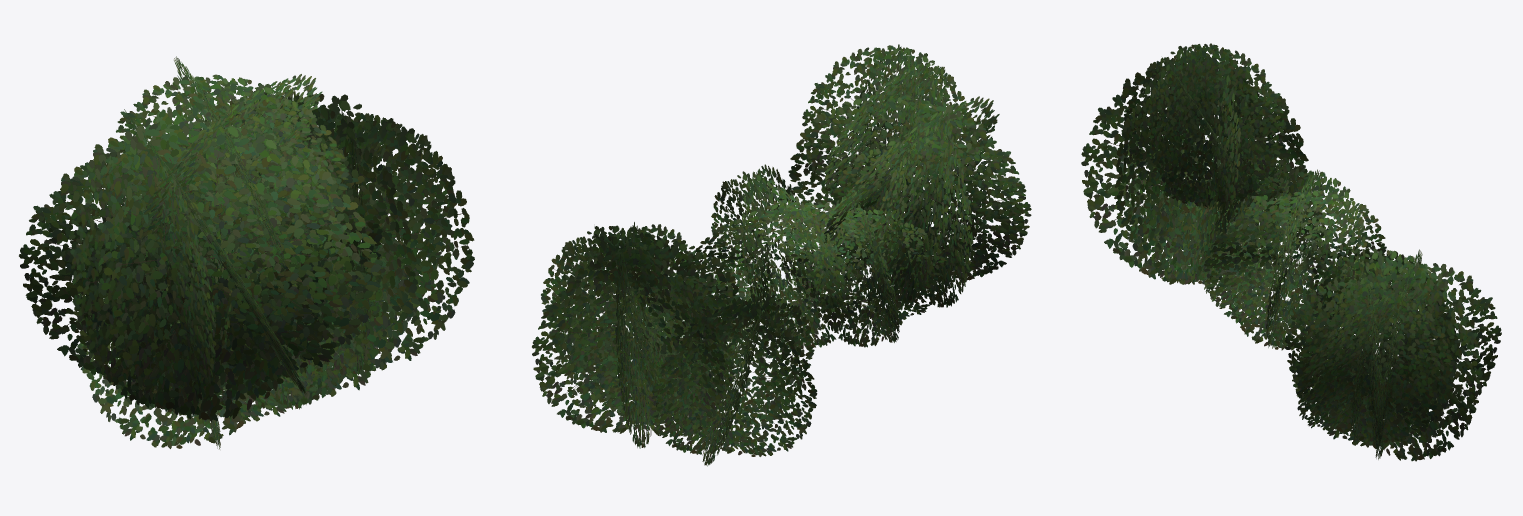
Rendered from shrub_060.glb.
3 views of the same model, side by side, from view 1: azimuth 30°, elevation 25°; view 2: azimuth 150°, elevation 25°; view 3: azimuth 270°, elevation 25° (orthographic). The views are drawn at different scales.
Parts seen in each view (by area): view 1: shrub_060; view 2: shrub_060; view 3: shrub_060.
Part boxes in pixels (bbox=[...]): shrub_060: bbox=[19, 56, 474, 449]; shrub_060: bbox=[532, 44, 1031, 466]; shrub_060: bbox=[1081, 43, 1501, 461].
Size of what is drawn, in the model's own units: 0.7603 by 0.6611 by 0.7688.
1 material, 1 textured.
